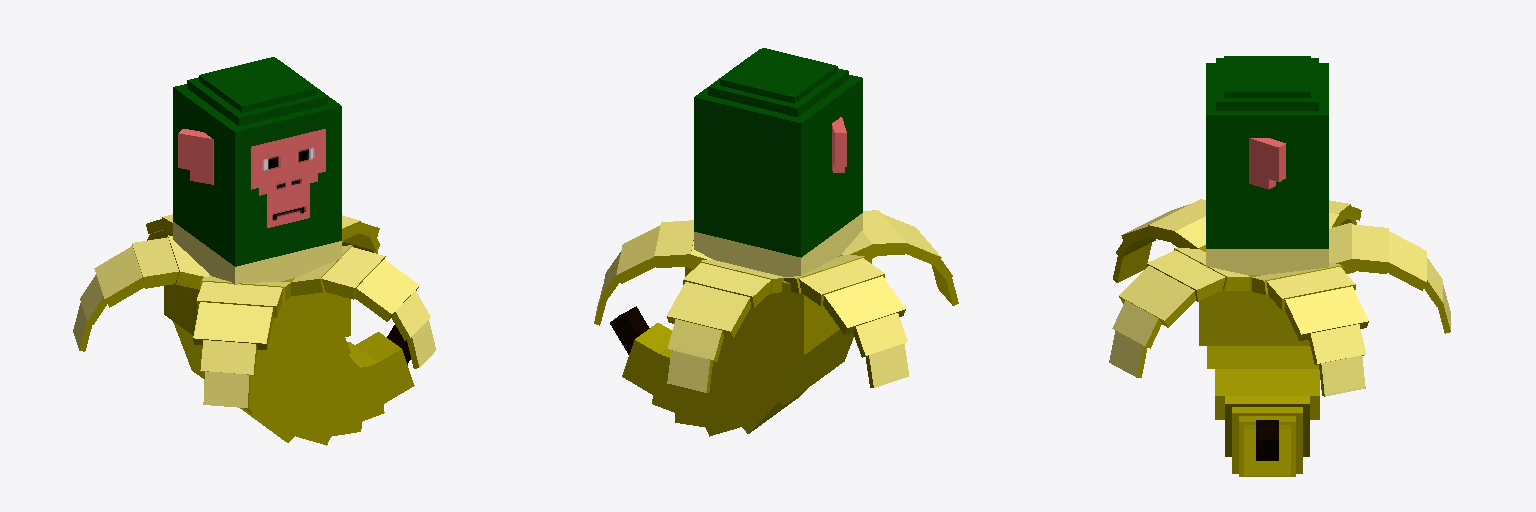
3 renders of one model, left to right at view 1: azimuth 30°, elevation 25°; view 2: azimuth 150°, elevation 25°; view 3: azimuth 270°, elevation 25°, orthographic.
Parts seen in each view (by area): view 1: Cube0011, Cube0151, Cube0021; view 2: Cube0021, Cube0011, Cube0151, Cube0031; view 3: Cube0011, Cube0151, Cube0021, Cube0031.
Part boxes in pixels (x1,y1,x2,y2): Cube0011: (73,129,435,407); Cube0151: (79,139,418,445); Cube0021: (173,57,341,266); Cube0021: (694,48,862,257); Cube0011: (594,117,940,392); Cube0151: (594,240,958,436); Cube0031: (610,306,649,354); Cube0011: (1109,138,1450,396); Cube0151: (1113,204,1450,476); Cube0021: (1206,56,1328,248); Cube0031: (1256,420,1278,460).
Size of the model in its own units: 6.96 by 7.52 by 6.48.
4 materials, 1 textured.